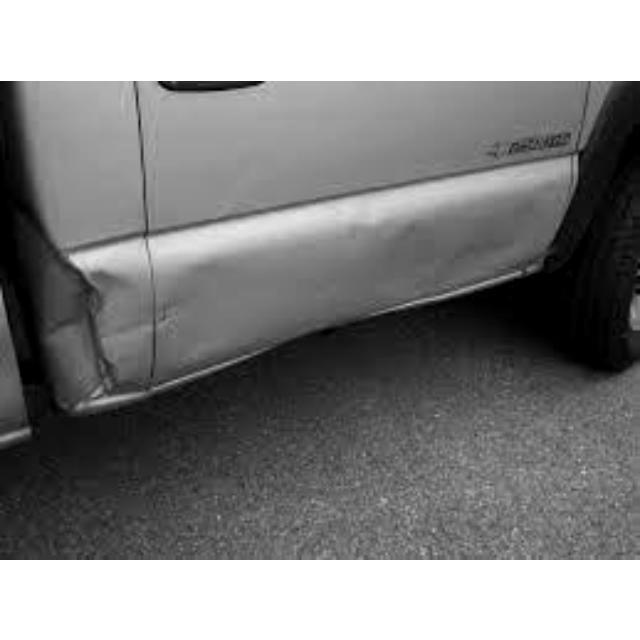doorouter-dent: (38, 248, 183, 416), (351, 209, 546, 285), (262, 303, 350, 352)
